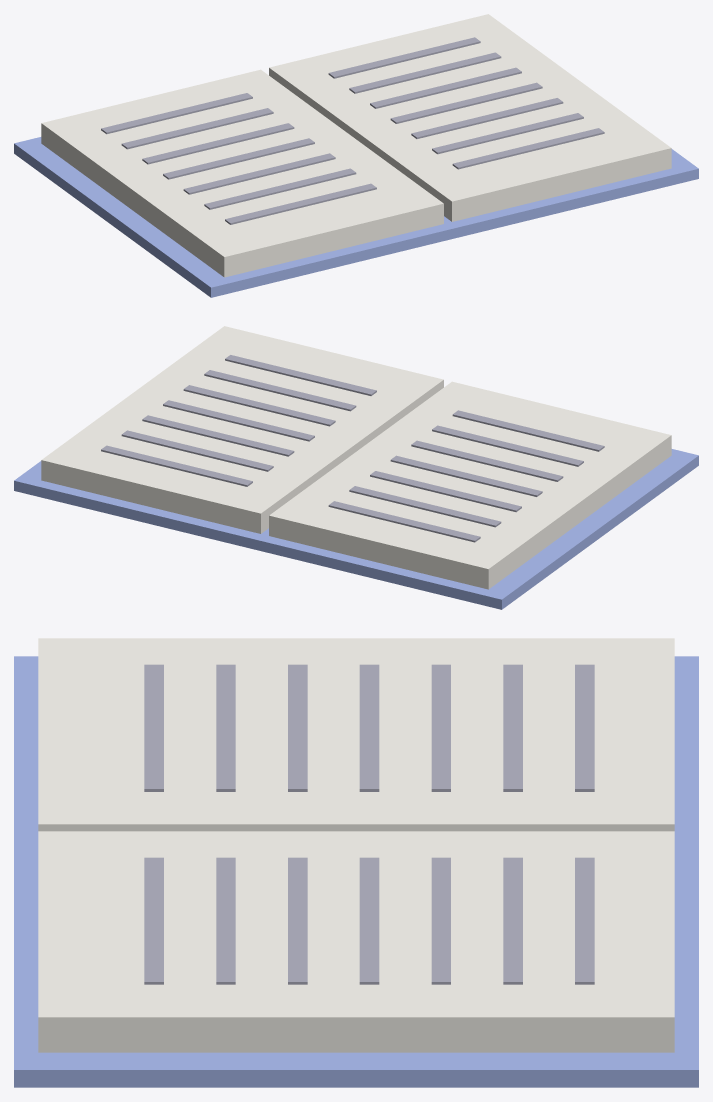
The model's file is book.glb.
3 views of the same model, one above another, from view 1: azimuth 30°, elevation 25°; view 2: azimuth 150°, elevation 25°; view 3: azimuth 270°, elevation 25° (orthographic). The views are drawn at different scales.
Parts seen in each view (by area): view 1: pages_l, pages_r, text, cover; view 2: pages_l, pages_r, text, cover; view 3: pages_r, pages_l, cover, text.
Boxes of the visible parts, box(x1,y1,x2,y2) form: pages_l: box(41, 69, 443, 277); pages_r: box(269, 14, 671, 221); text: box(101, 37, 604, 224); cover: box(14, 137, 698, 297); pages_l: box(269, 381, 671, 589); pages_r: box(41, 326, 443, 533); text: box(101, 355, 604, 542); cover: box(14, 449, 698, 609); pages_r: box(38, 831, 674, 1052); pages_l: box(38, 638, 674, 831); cover: box(14, 656, 698, 1087); text: box(144, 664, 594, 984).
Size of what is drawn, in the model's own units: 0.3 by 0.0195 by 0.21.
